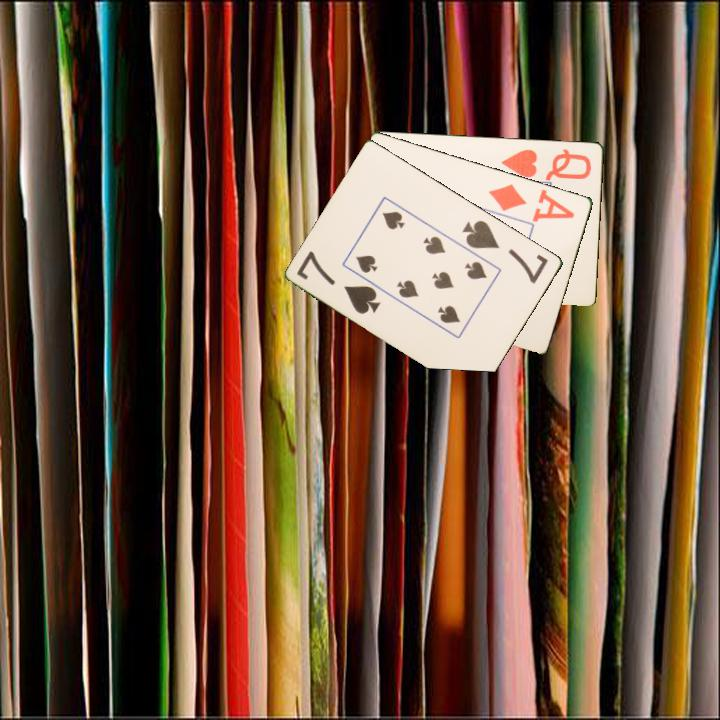7s: (459, 216, 551, 287), (293, 247, 384, 317)
Ad: (485, 180, 578, 225)
Qh: (498, 145, 594, 182)
